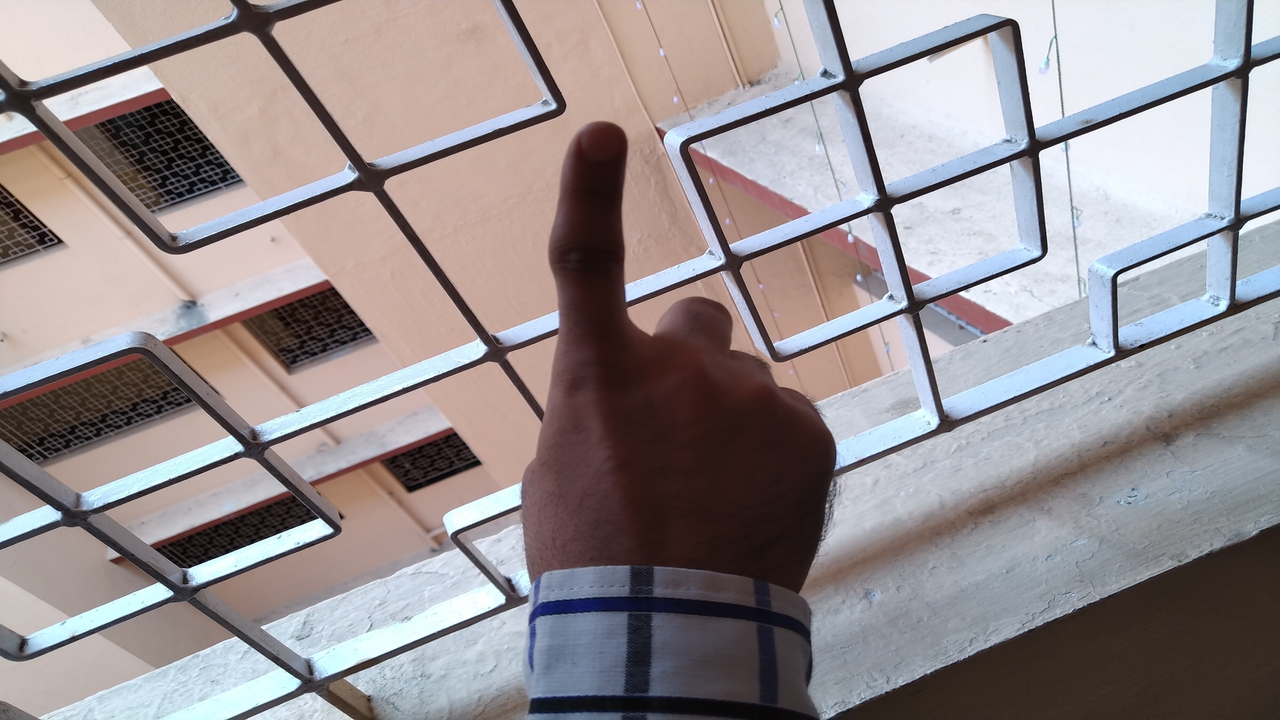fingertip: (558, 118, 626, 178)
